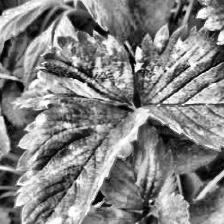Powdery Mildew Leaf: (14, 93, 149, 224), (132, 24, 224, 151), (11, 28, 138, 112)
